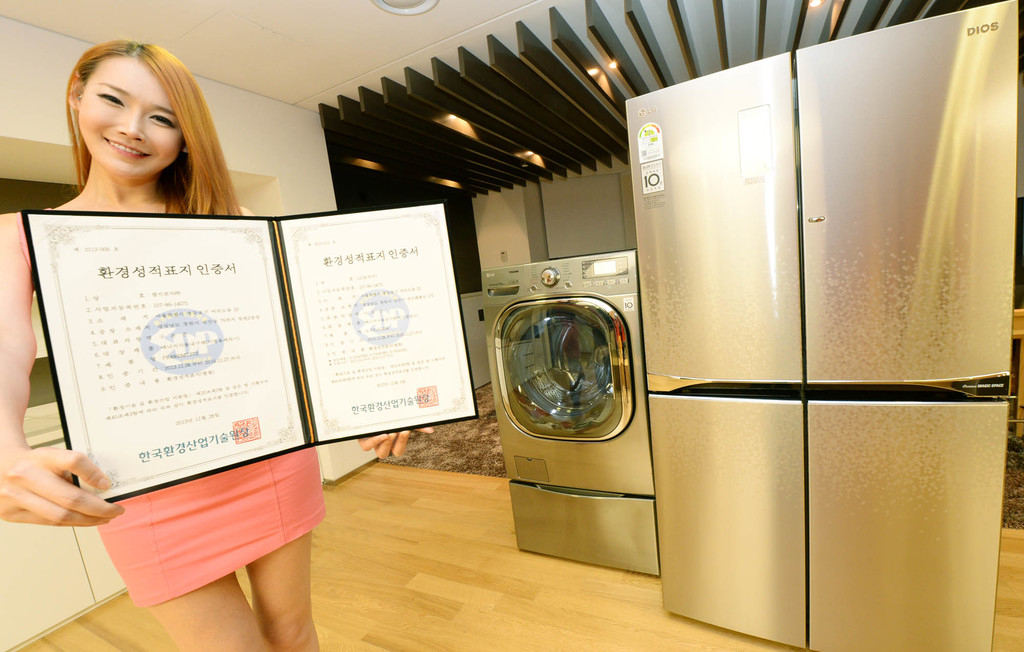handle: (806, 378, 1004, 413), (638, 385, 802, 412)
refrigerator door: (798, 44, 1009, 384), (625, 101, 795, 377), (807, 398, 989, 652), (644, 390, 804, 644)
